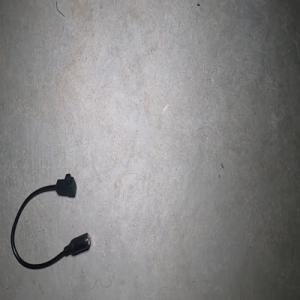Wire: (10, 173, 90, 269)
